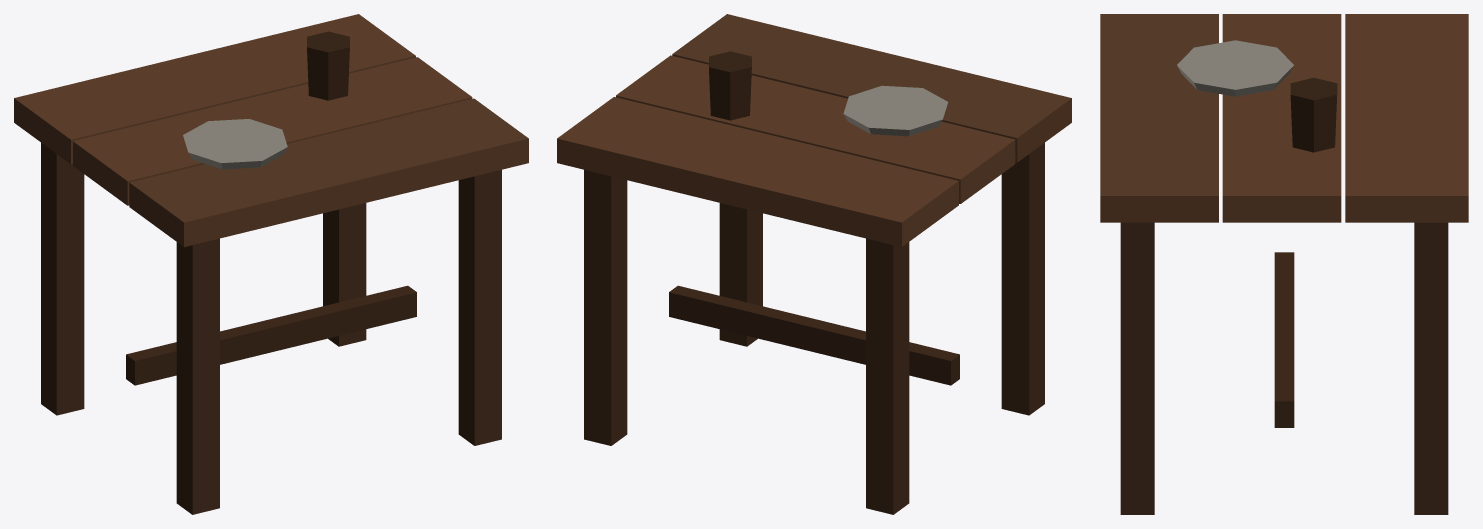
The model's file is table.glb.
3 views of the same model, side by side, from view 1: azimuth 30°, elevation 25°; view 2: azimuth 150°, elevation 25°; view 3: azimuth 270°, elevation 25° (orthographic). The views are drawn at different scales.
Visible parts, largest first — view 1: table; view 2: table; view 3: table.
Boxes of the visible parts, left/top/right/bottom form: table: left=14, top=14, right=528, bottom=514; table: left=557, top=14, right=1071, bottom=514; table: left=1100, top=14, right=1468, bottom=514.
Size of the model in its own units: 0.88 by 0.86 by 0.752.
